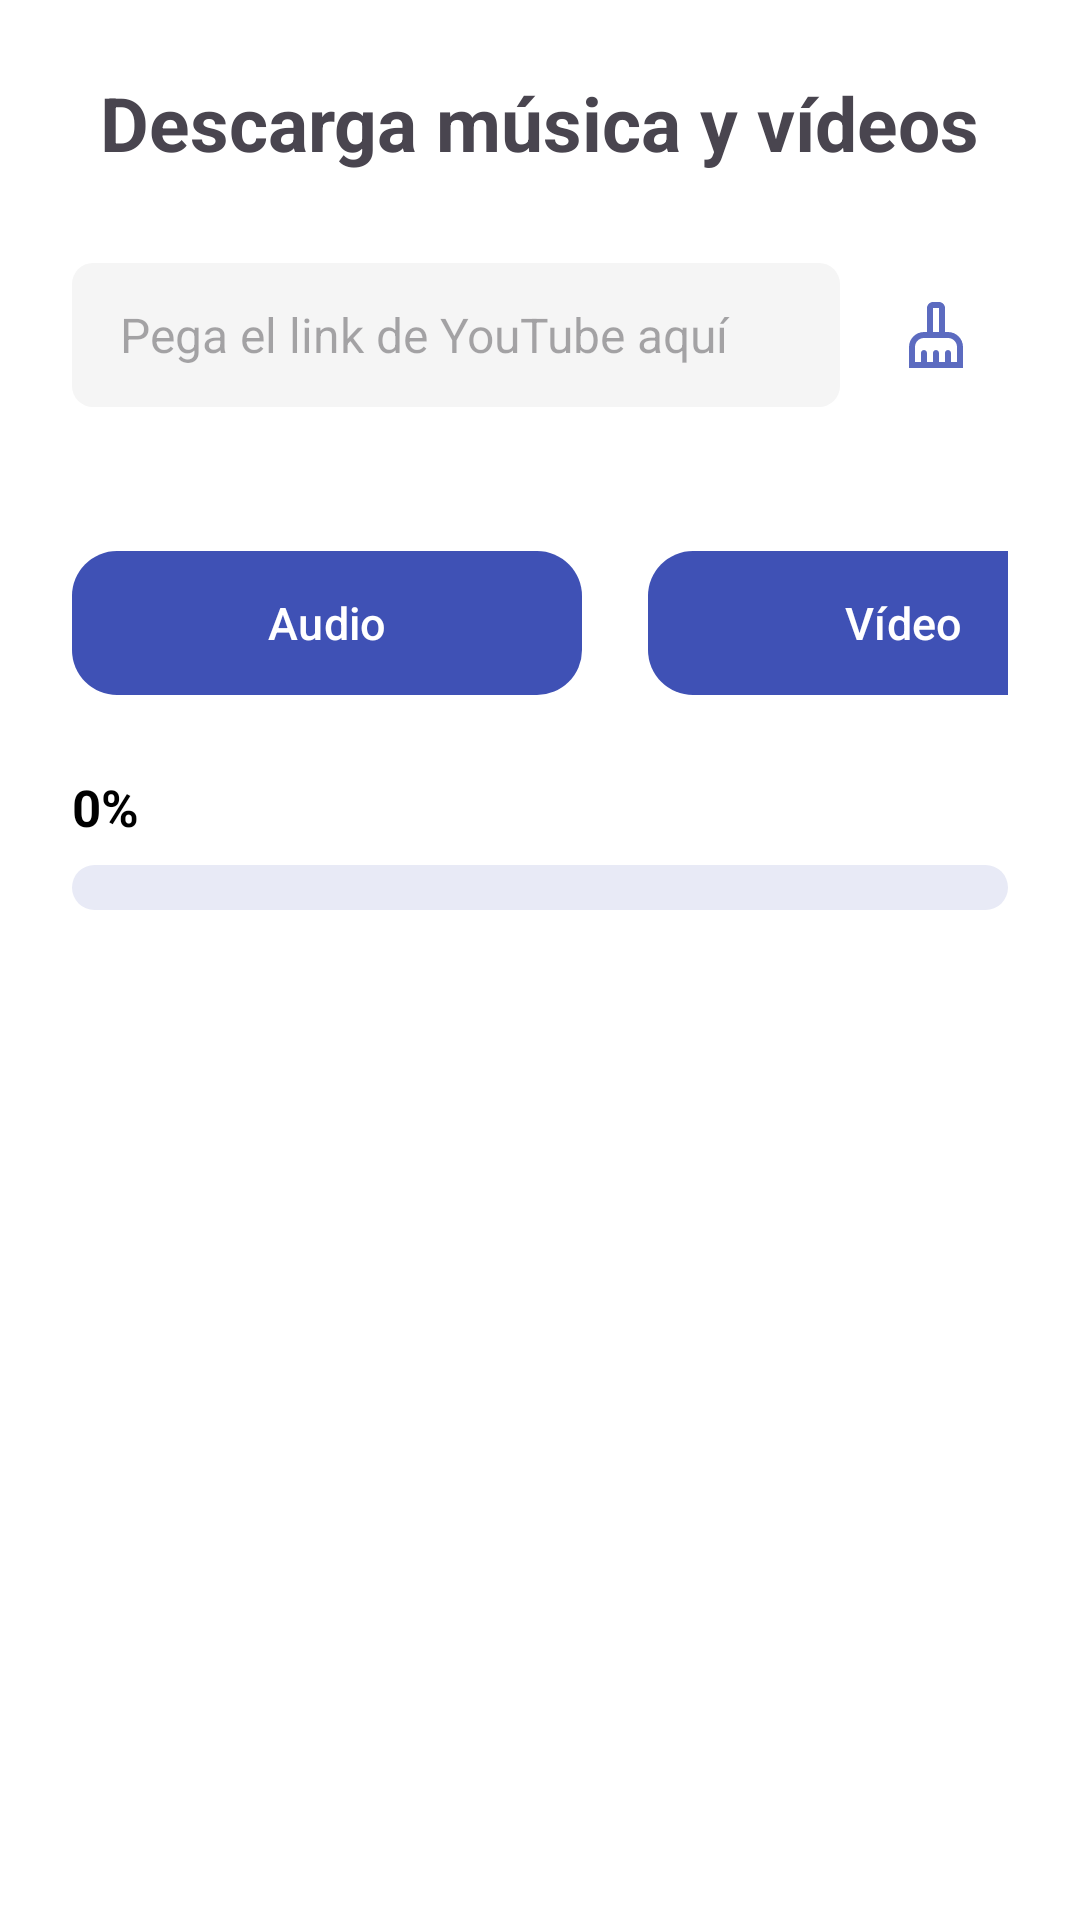

Named icons in this screenshot (1080 × 1920) and their centers, (x=x, y=y):
Limpiar texto: (x=936, y=335)
